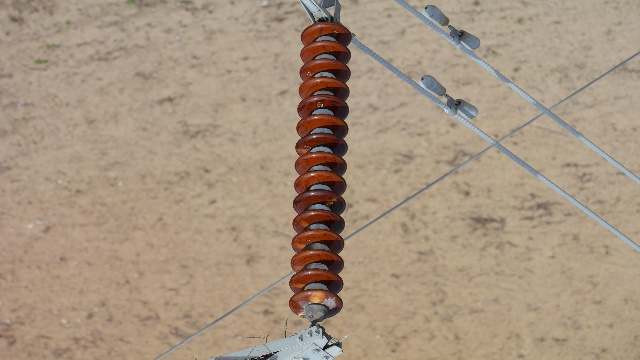insulator_unspecified: (289, 22, 353, 319)
pollution_flashover_local: (308, 289, 326, 305), (292, 240, 306, 248), (293, 282, 306, 289), (297, 147, 308, 153), (297, 310, 305, 318), (300, 220, 309, 227)
